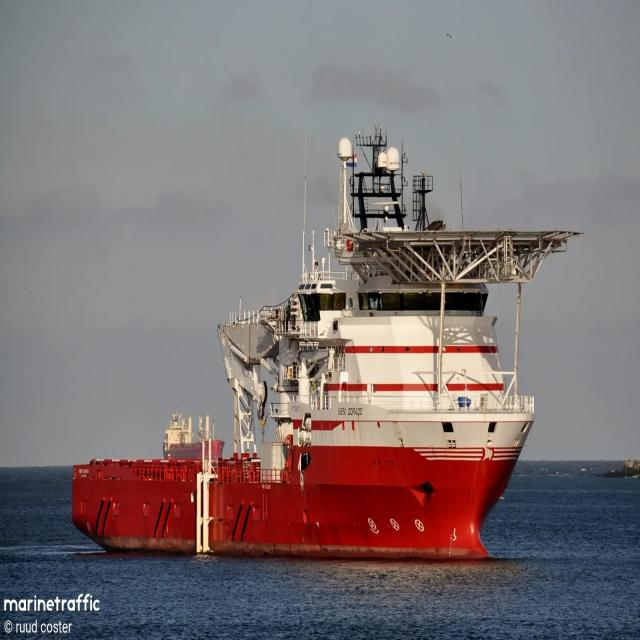Offshore: (72, 130, 579, 557)
